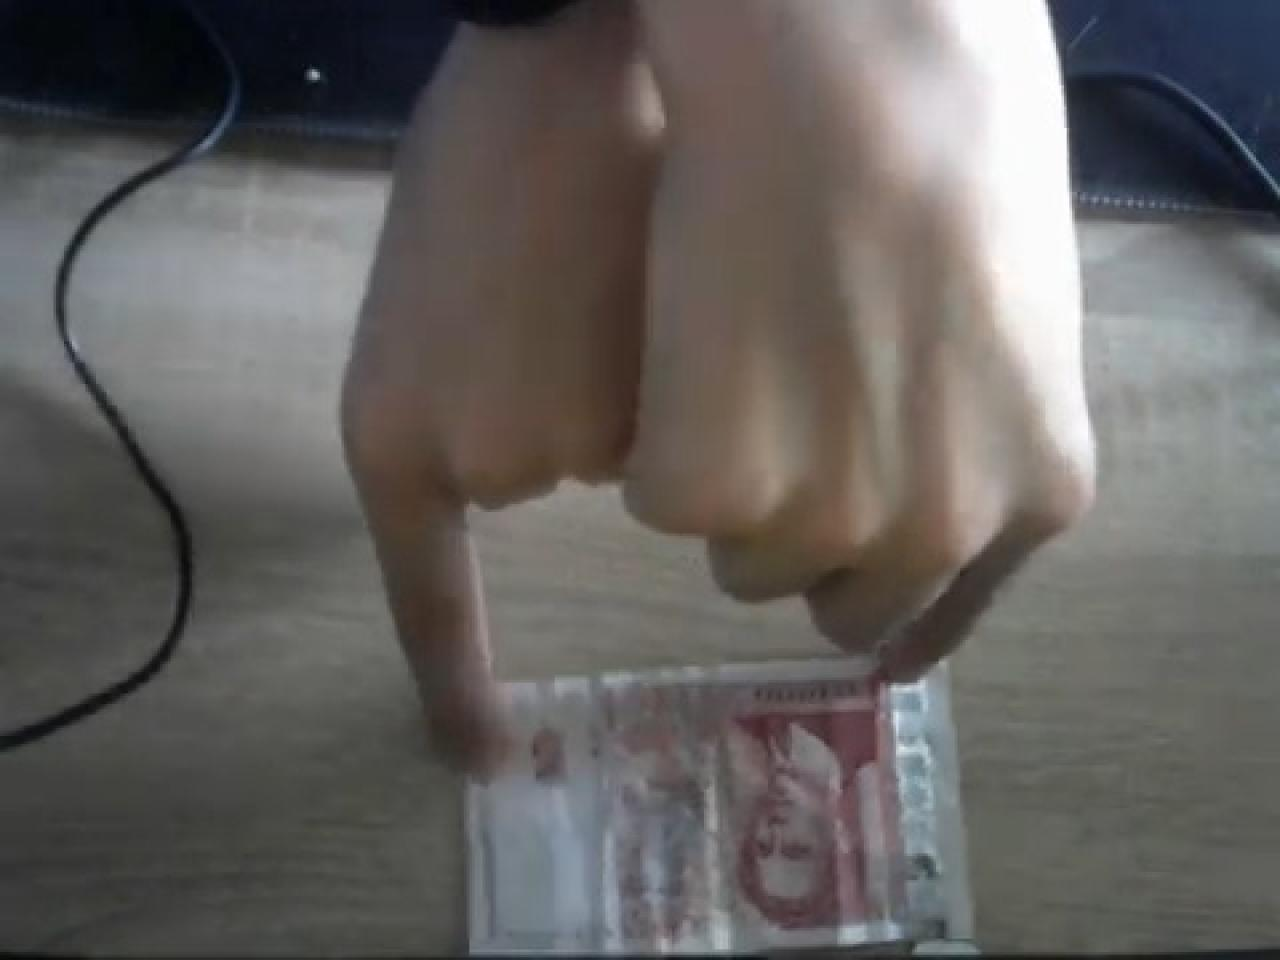5leva: (693, 712, 899, 949)
